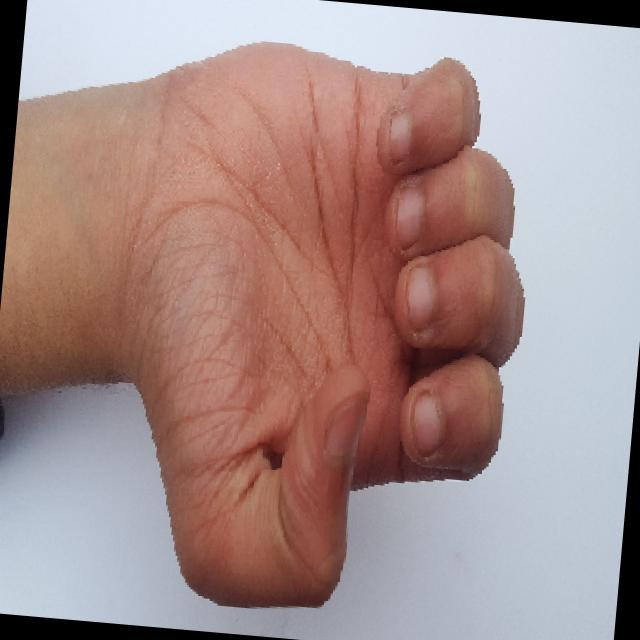Nail: (326, 397, 364, 456), (406, 266, 436, 328), (412, 391, 441, 453), (396, 186, 423, 246), (388, 112, 411, 162)
